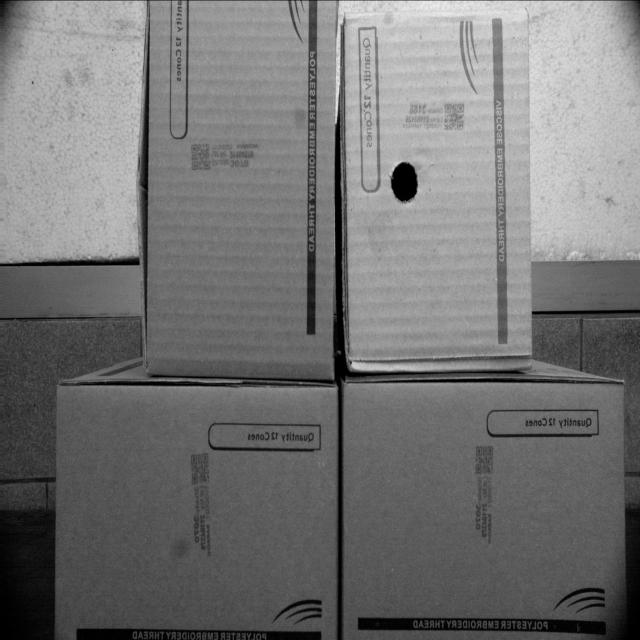cardboxes: (342, 380, 627, 639), (142, 2, 340, 374), (54, 383, 336, 639), (344, 11, 532, 368)
